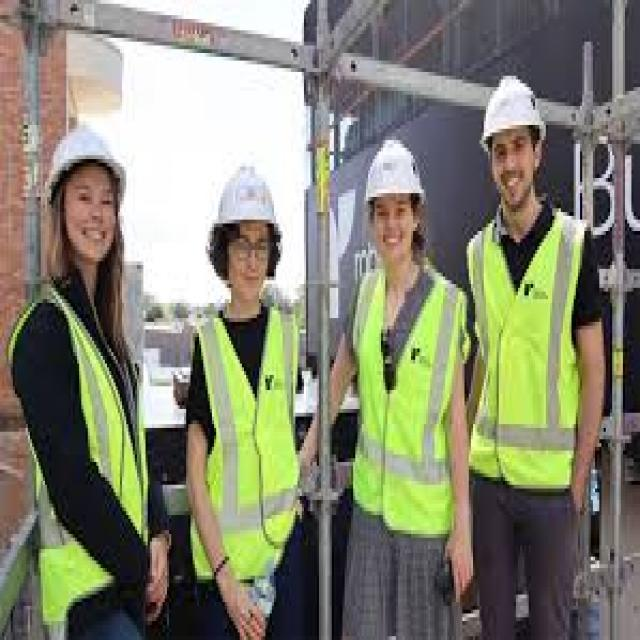Reflective-Jacket: (0, 272, 156, 583), (464, 212, 591, 504), (186, 307, 308, 583), (349, 273, 467, 545)
Safety-Helmet: (39, 110, 137, 212), (202, 155, 280, 239), (477, 68, 548, 152), (364, 133, 422, 208)
